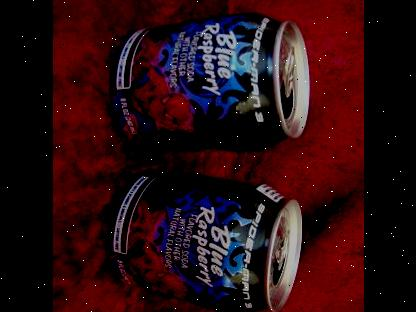Can: (105, 169, 300, 312), (110, 14, 310, 152)
